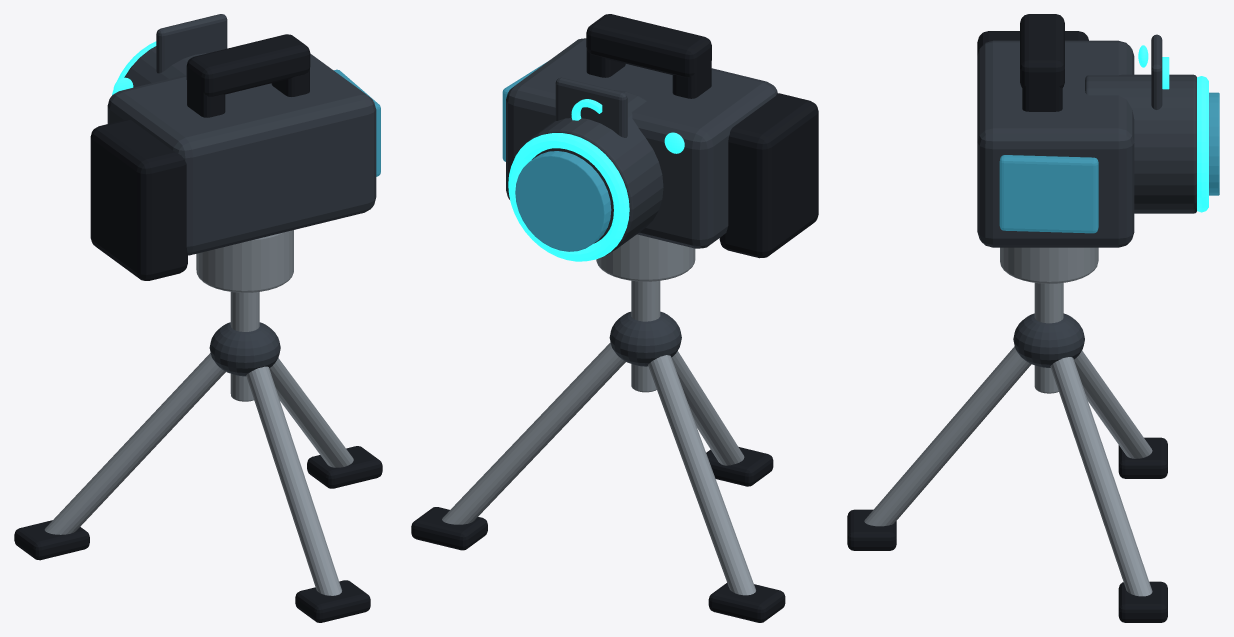
The model's file is DirectorCameraRig_C.glb.
The picture shows the model from 3 angles, left to right: view 1: azimuth 30°, elevation 25°; view 2: azimuth 150°, elevation 25°; view 3: azimuth 270°, elevation 25°; orthographic projection.
Visible parts, largest first — view 1: C_Body, C_Grip, C_Leg3, C_Leg2, C_TopHandle, C_TripodHead, C_Leg1, C_TripodHub, C_Badge, C_Foot3, C_Foot1, C_Foot2 (+4 smaller); view 2: C_Body, C_Grip, C_FrontGlass, C_Leg2, C_LensBarrel, C_Leg1, C_TopHandle, C_LensAccent, C_TripodHead, C_TripodHub, C_Badge, C_Leg3 (+6 smaller); view 3: C_Body, C_LensBarrel, C_SideMonitor, C_Leg1, C_Leg3, C_TopHandle, C_TripodHead, C_TripodHub, C_Leg2, C_CenterColumn, C_Foot1, C_LensAccent (+6 smaller).
Part boxes in pixels (bbox=[...]): C_Body: bbox=[107, 53, 376, 255]; C_Grip: bbox=[90, 119, 187, 280]; C_Leg3: bbox=[246, 366, 341, 595]; C_Leg2: bbox=[44, 353, 225, 534]; C_TopHandle: bbox=[186, 34, 310, 96]; C_TripodHead: bbox=[196, 230, 293, 292]; C_Leg1: bbox=[269, 358, 353, 467]; C_TripodHub: bbox=[209, 322, 280, 376]; C_Badge: bbox=[156, 14, 227, 73]; C_Foot3: bbox=[295, 580, 370, 622]; C_Foot1: bbox=[307, 446, 382, 488]; C_Foot2: bbox=[14, 520, 89, 560]; C_Body: bbox=[506, 38, 777, 248]; C_Grip: bbox=[719, 93, 818, 258]; C_FrontGlass: bbox=[515, 151, 611, 251]; C_Leg2: bbox=[648, 355, 755, 595]; C_LensBarrel: bbox=[522, 90, 663, 255]; C_Leg1: bbox=[442, 342, 625, 524]; C_TopHandle: bbox=[586, 14, 711, 77]; C_LensAccent: bbox=[508, 133, 629, 261]; C_TripodHead: bbox=[596, 234, 695, 281]; C_TripodHub: bbox=[609, 311, 681, 366]; C_Badge: bbox=[555, 77, 627, 137]; C_Leg3: bbox=[671, 351, 744, 465]; C_Body: bbox=[977, 40, 1134, 247]; C_LensBarrel: bbox=[1085, 74, 1196, 213]; C_SideMonitor: bbox=[999, 155, 1098, 233]; C_Leg1: bbox=[1050, 357, 1152, 596]; C_Leg3: bbox=[864, 346, 1031, 526]; C_TopHandle: bbox=[1020, 14, 1064, 88]; C_TripodHead: bbox=[1000, 247, 1098, 283]; C_TripodHub: bbox=[1013, 313, 1084, 367]; C_Leg2: bbox=[1074, 350, 1152, 458]; C_CenterColumn: bbox=[1034, 283, 1063, 393]; C_Foot1: bbox=[1118, 581, 1167, 622]; C_LensAccent: bbox=[1197, 76, 1208, 212].
Size of the model in its own units: 0.1319 by 0.18 by 0.121.
